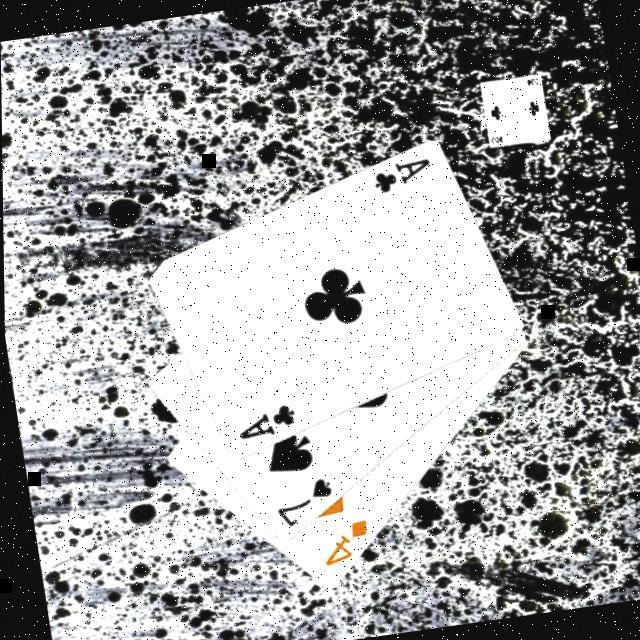4D: (314, 515, 376, 570)
7S: (268, 474, 339, 532)
AC: (231, 398, 300, 444), (368, 154, 437, 197)
